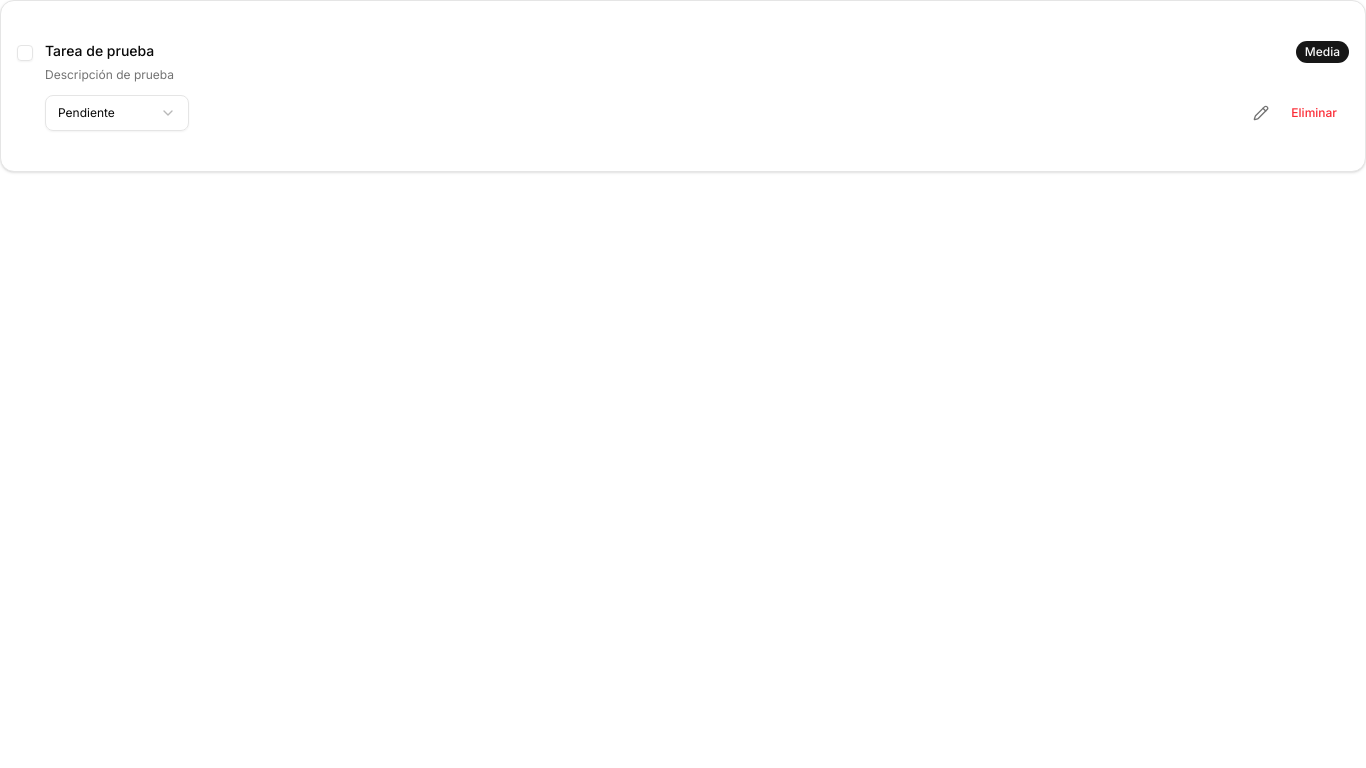
Test: TodoItem — acciones › abre el dialog de edición al clickear el lápiz
Click the button named "Editar" at (1261, 113), box [1247,99,1275,127]
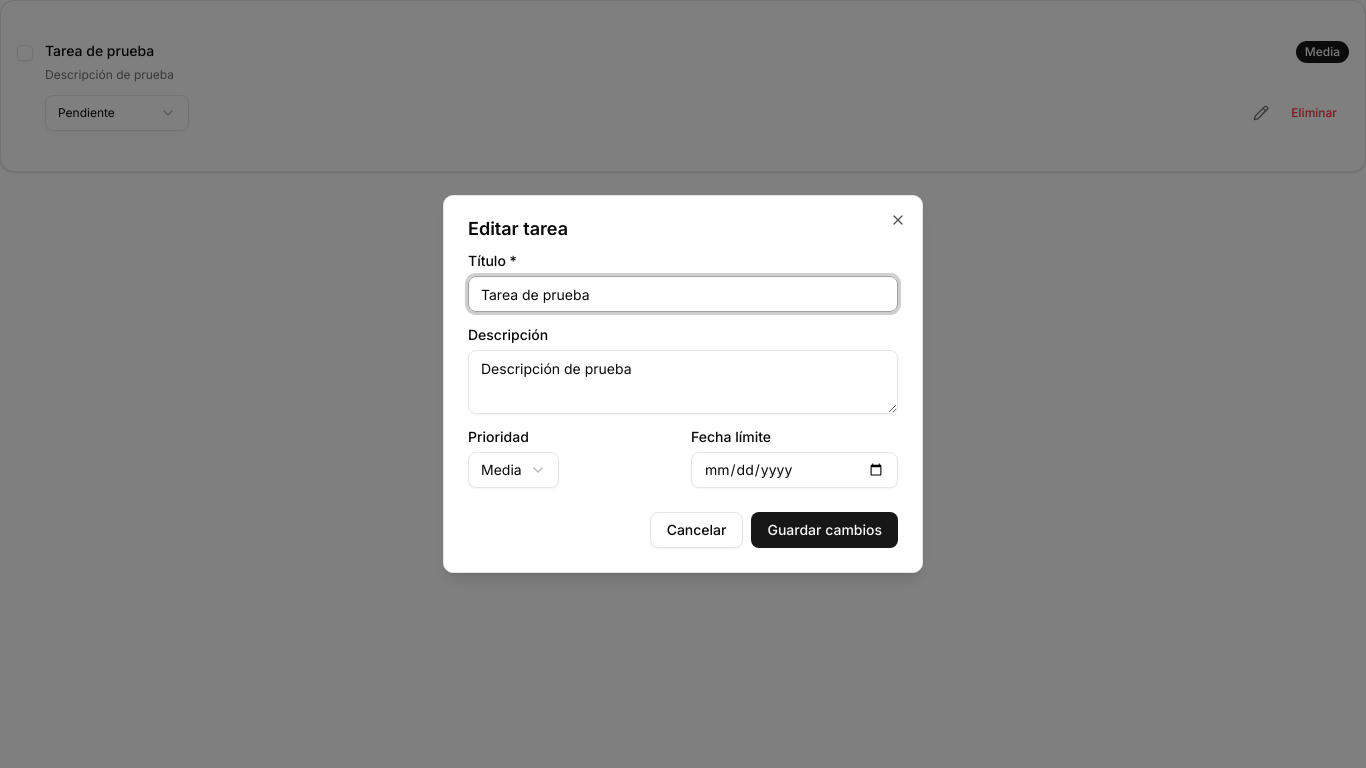
Expected: the dialog is shown, [443,195,923,573]
